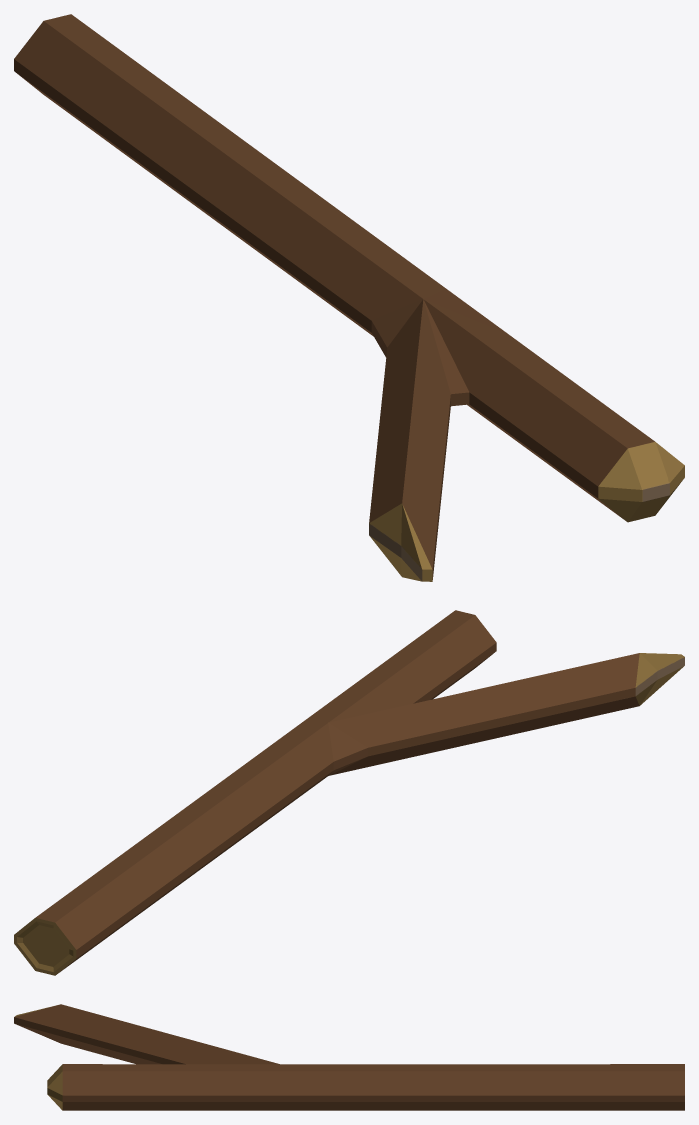
The model's file is Stick.fbx.
3 views of the same model, one above another, from view 1: azimuth 30°, elevation 25°; view 2: azimuth 150°, elevation 25°; view 3: azimuth 270°, elevation 25° (orthographic). The views are drawn at different scales.
Visible parts, largest first — view 1: Stick; view 2: Stick; view 3: Stick.
Boxes of the visible parts, box(x1,y1,x2,y2) form: Stick: box(14, 14, 684, 581); Stick: box(14, 610, 684, 975); Stick: box(14, 1004, 684, 1110).
Size of the model in its own units: 34.57 by 8.2 by 123.
